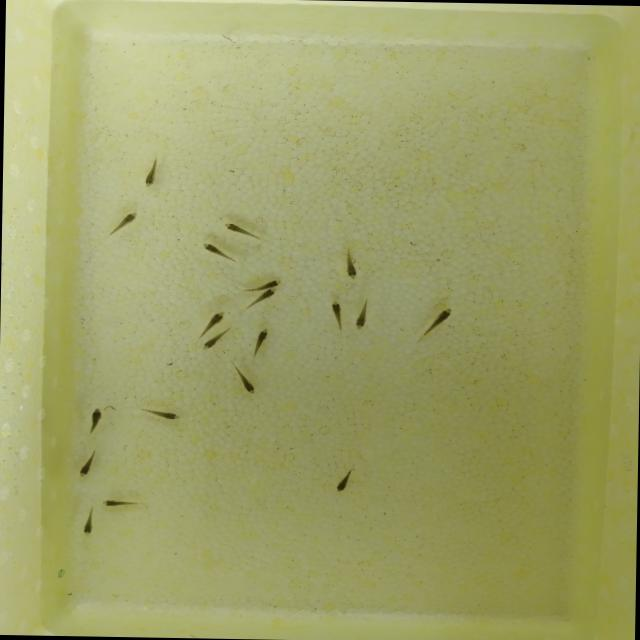fingerling: (412, 305, 457, 343), (104, 209, 142, 236), (243, 327, 273, 361), (220, 218, 266, 240), (198, 238, 238, 262), (230, 364, 260, 396), (338, 248, 364, 282), (138, 153, 161, 190), (138, 406, 186, 422), (352, 294, 372, 331), (84, 405, 107, 436), (324, 298, 346, 330), (332, 464, 357, 492), (76, 451, 100, 478), (98, 496, 142, 509), (201, 308, 227, 329), (200, 334, 230, 352), (252, 285, 278, 305), (83, 508, 97, 538), (262, 276, 284, 288)
